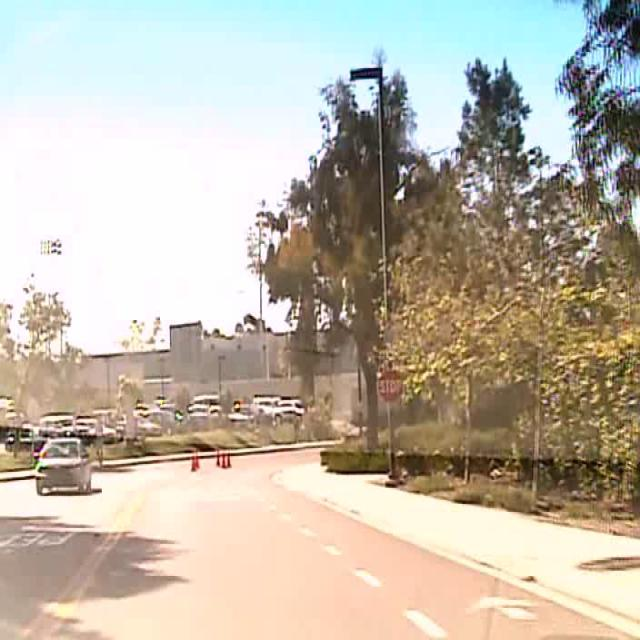stop: (377, 368, 403, 404)
